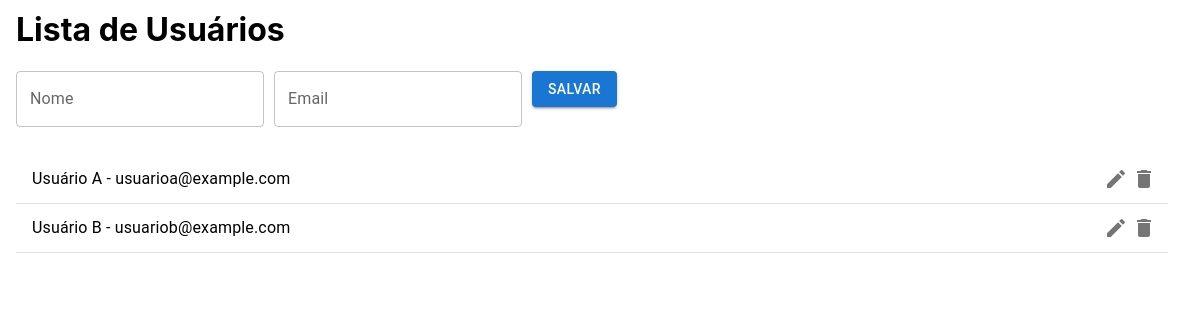
Test: adds a new user
// Adiciona um novo usuário
Step 1. Type "Usuário C" into the field labelled "Nome" → [140, 99], box left=16, top=71, right=264, bottom=127
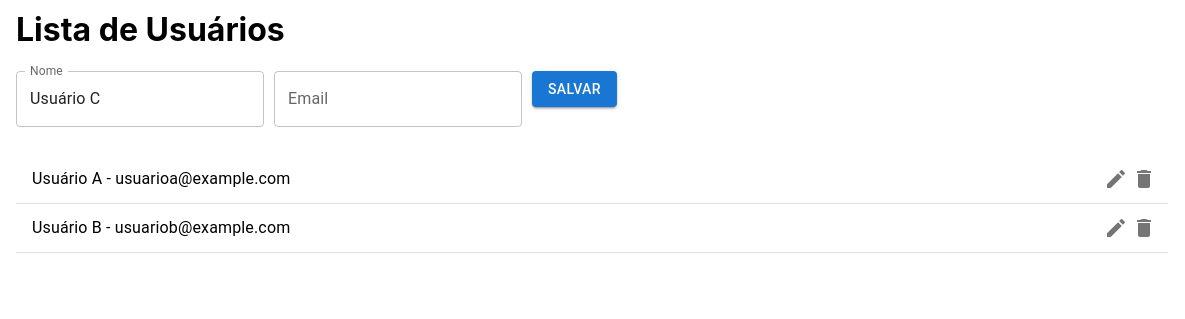
Step 2. Type "usuarioc@example.com" into the field labelled "Email" → [398, 99], box left=274, top=71, right=522, bottom=127
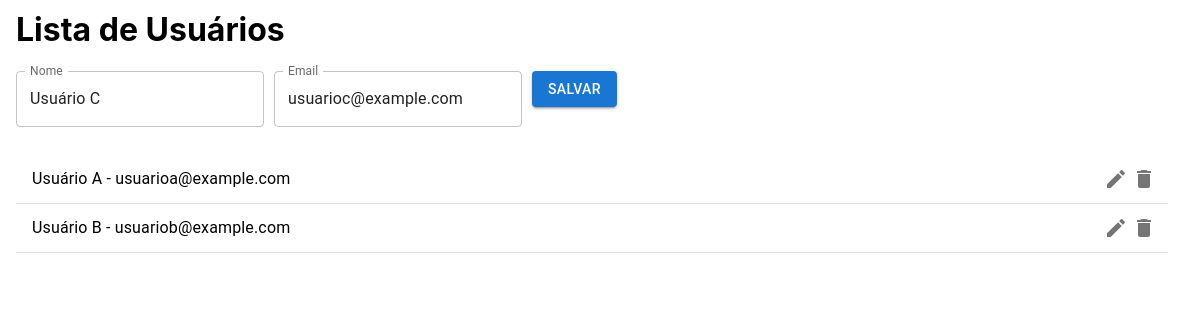
Step 3. Click the button "Salvar" → [574, 89], box left=532, top=71, right=617, bottom=107
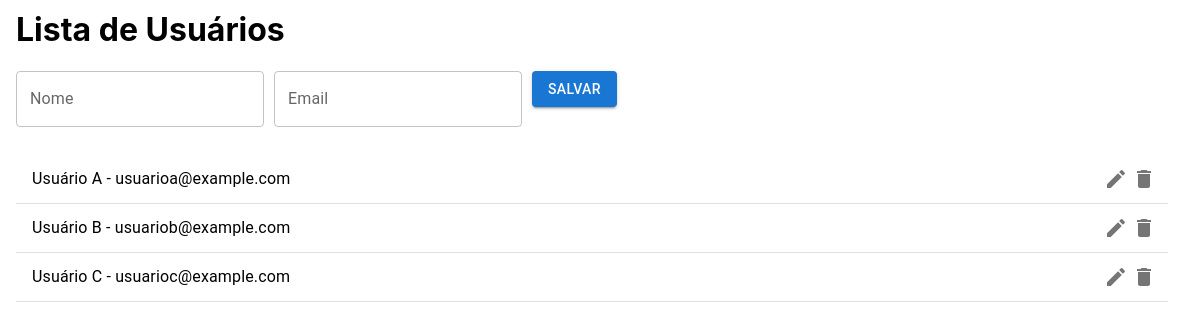
Expected: the text "Usuário C - usuarioc@example.com" is shown, left=32, top=267, right=290, bottom=286
